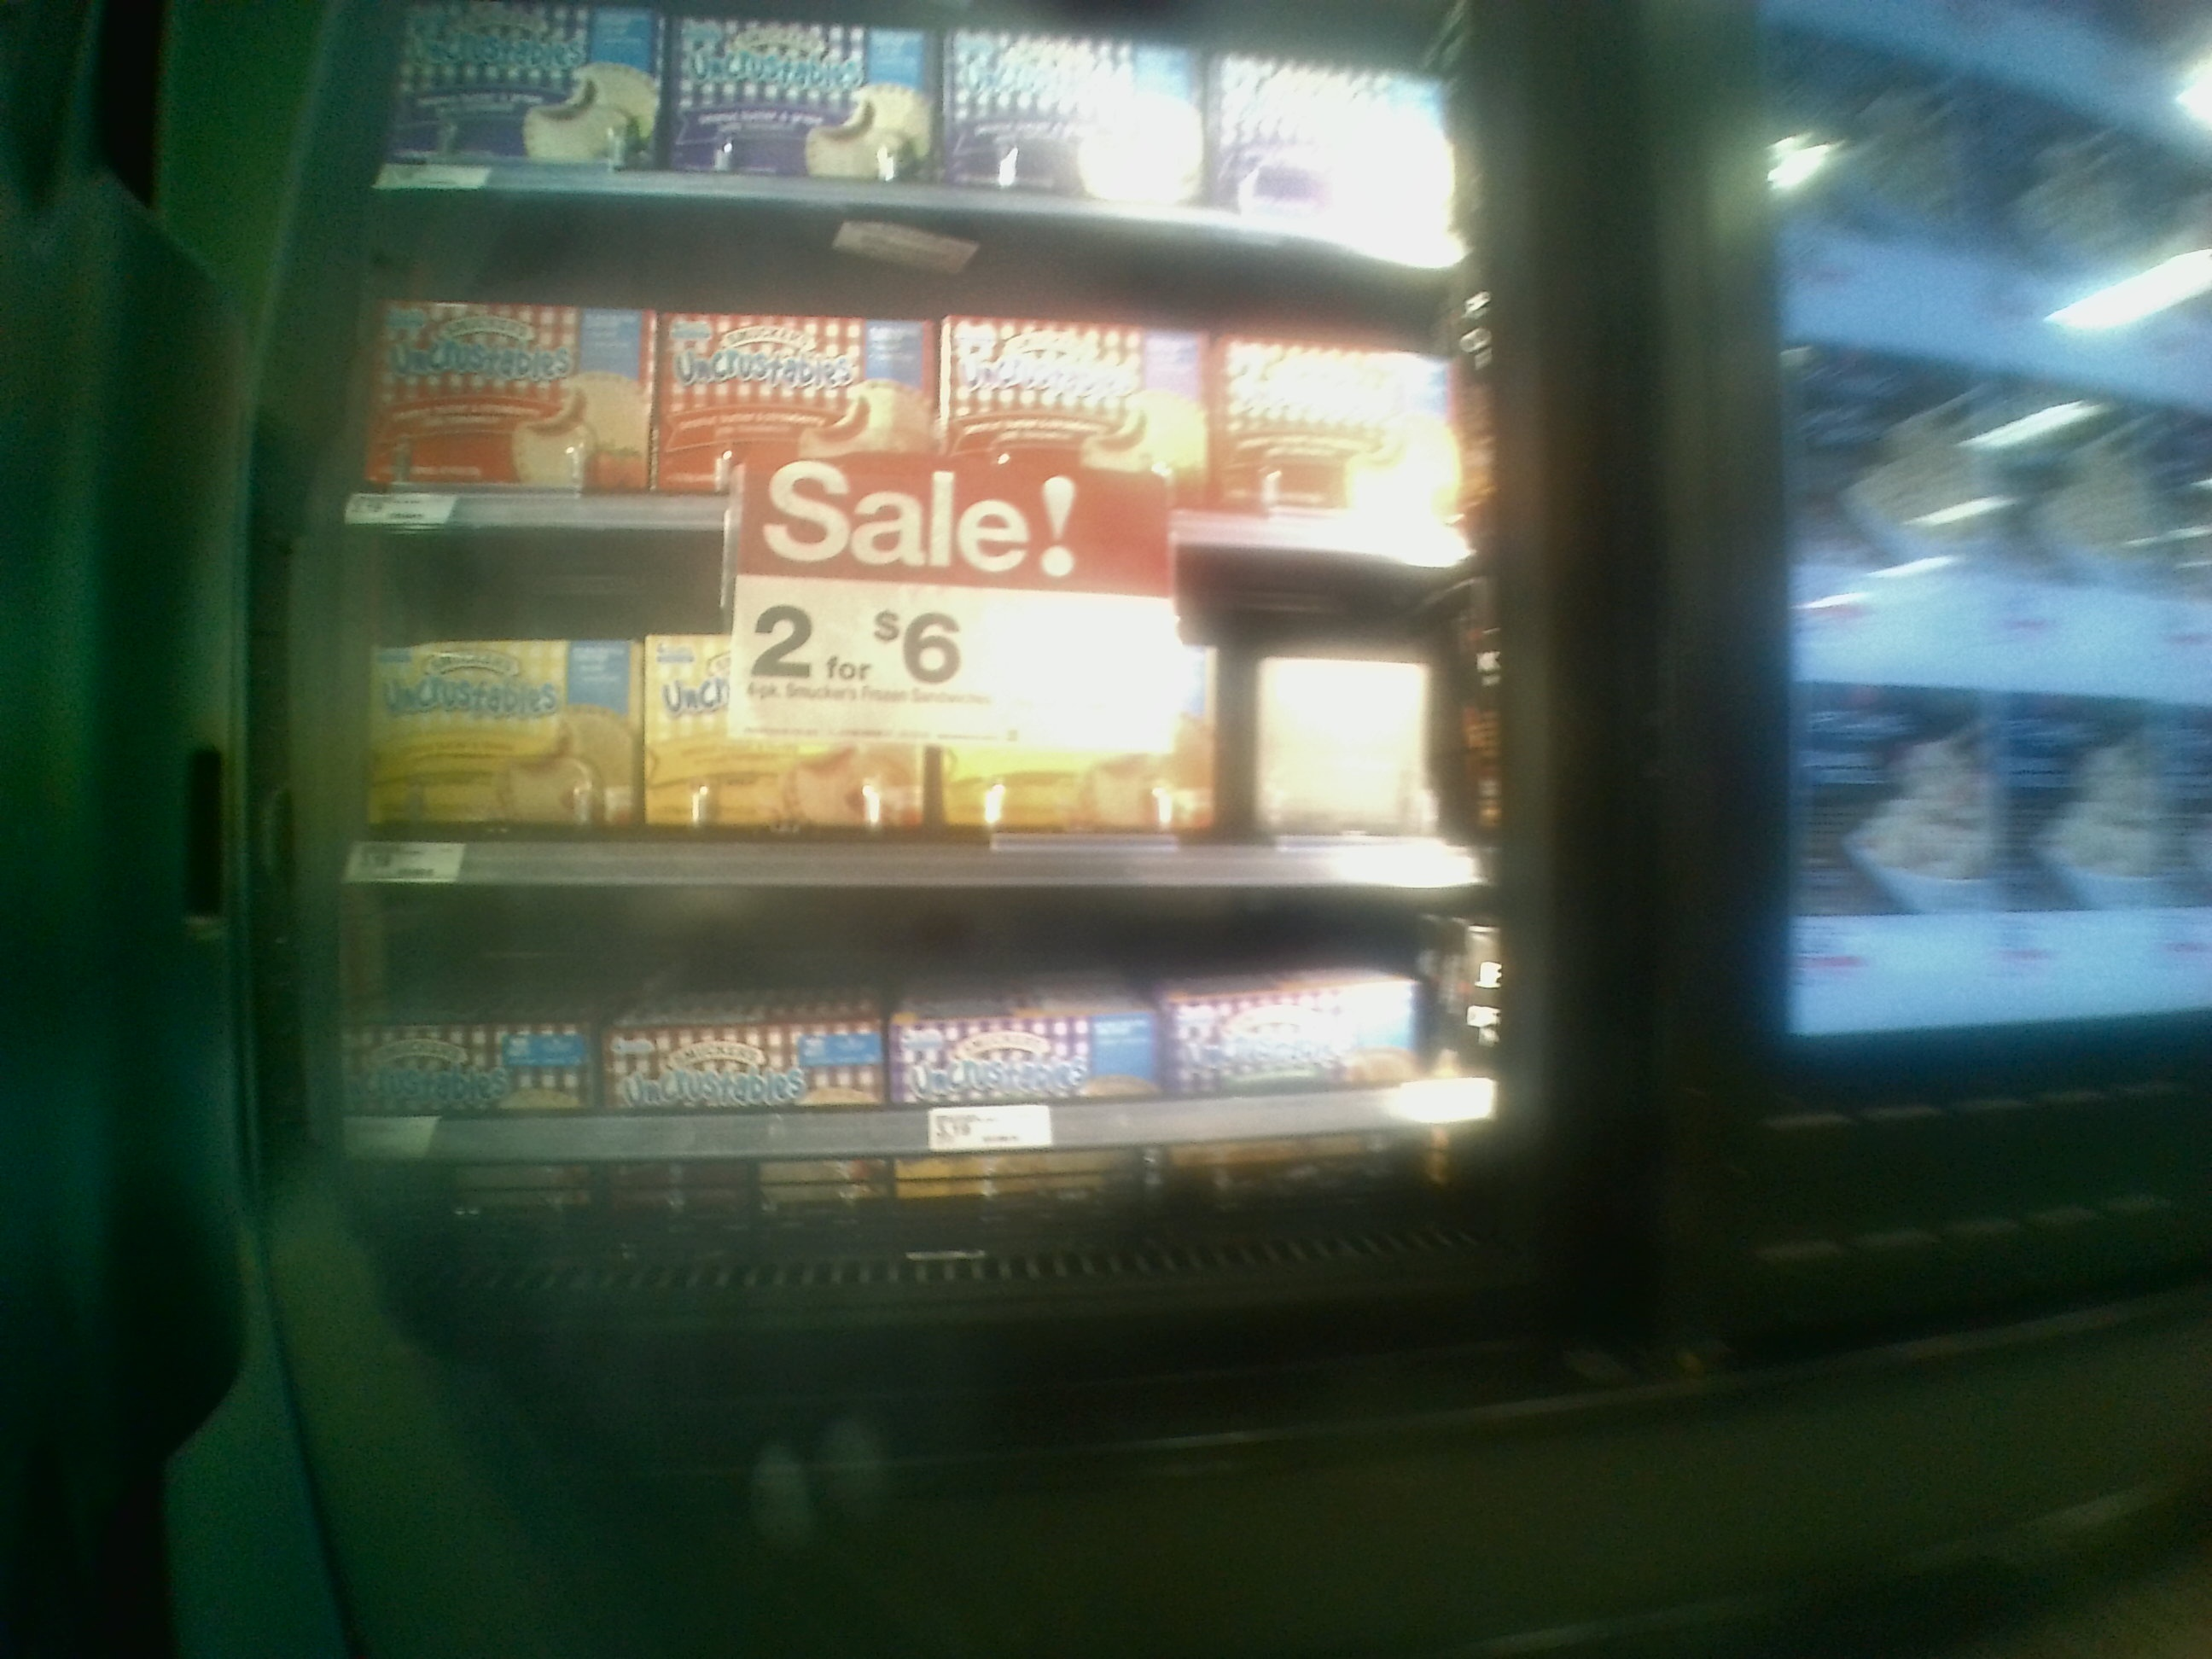shelf: (334, 193, 1486, 570), (319, 519, 1486, 889), (314, 873, 1475, 1150)
